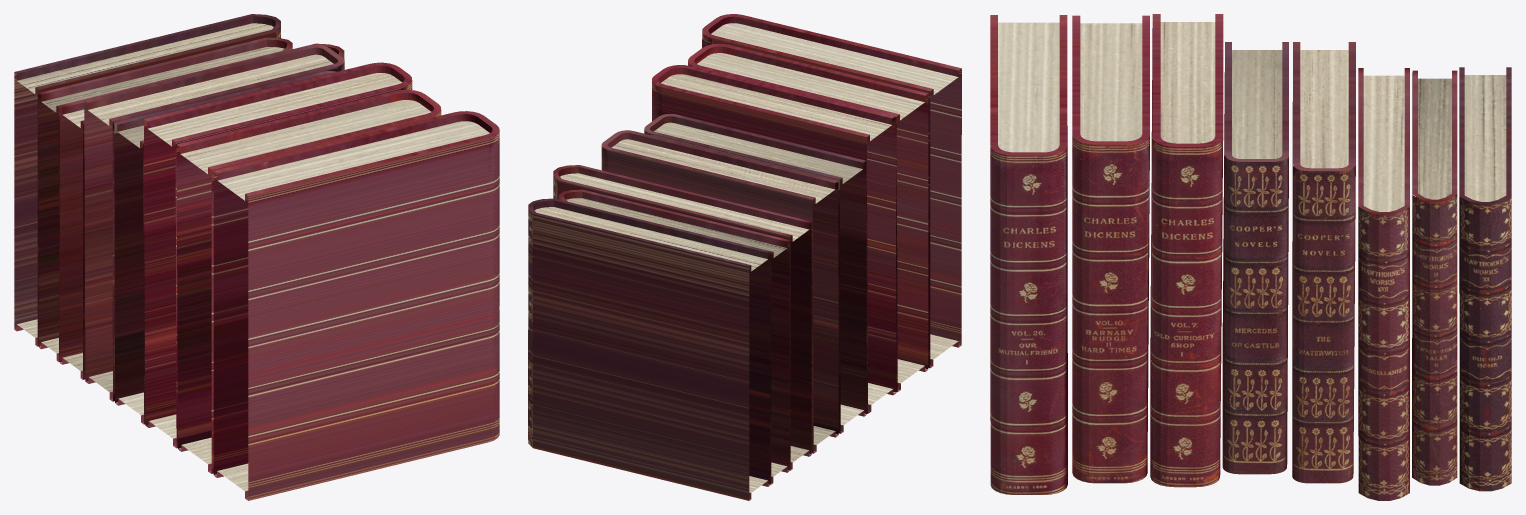
Rendered from BooksGroup09.fbx.
3 views of the same model, side by side, from view 1: azimuth 30°, elevation 25°; view 2: azimuth 150°, elevation 25°; view 3: azimuth 270°, elevation 25° (orthographic). The views are drawn at different scales.
Visible parts, largest first — view 1: Book_pack_5; view 2: Book_pack_5; view 3: Book_pack_5.
Part boxes in pixels (<box>): Book_pack_5: <box>14,14,499,500</box>; Book_pack_5: <box>528,14,961,500</box>; Book_pack_5: <box>990,14,1511,500</box>.
Size of the model in its own units: 26.43 by 28.57 by 39.68.
Materials: 2 (2 with a texture image).
